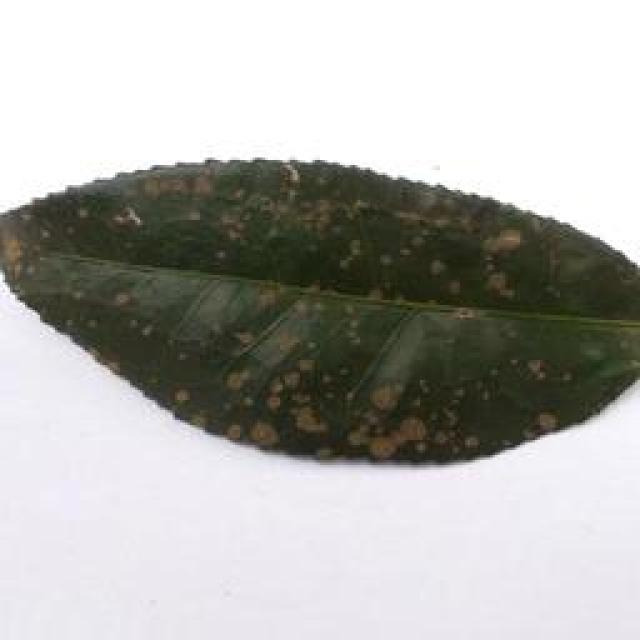Algal Leaf Spot: (2, 139, 640, 483)
